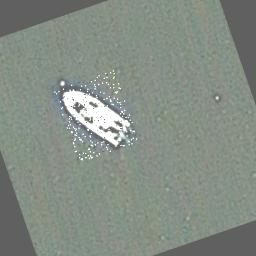boat: (54, 70, 139, 162)
